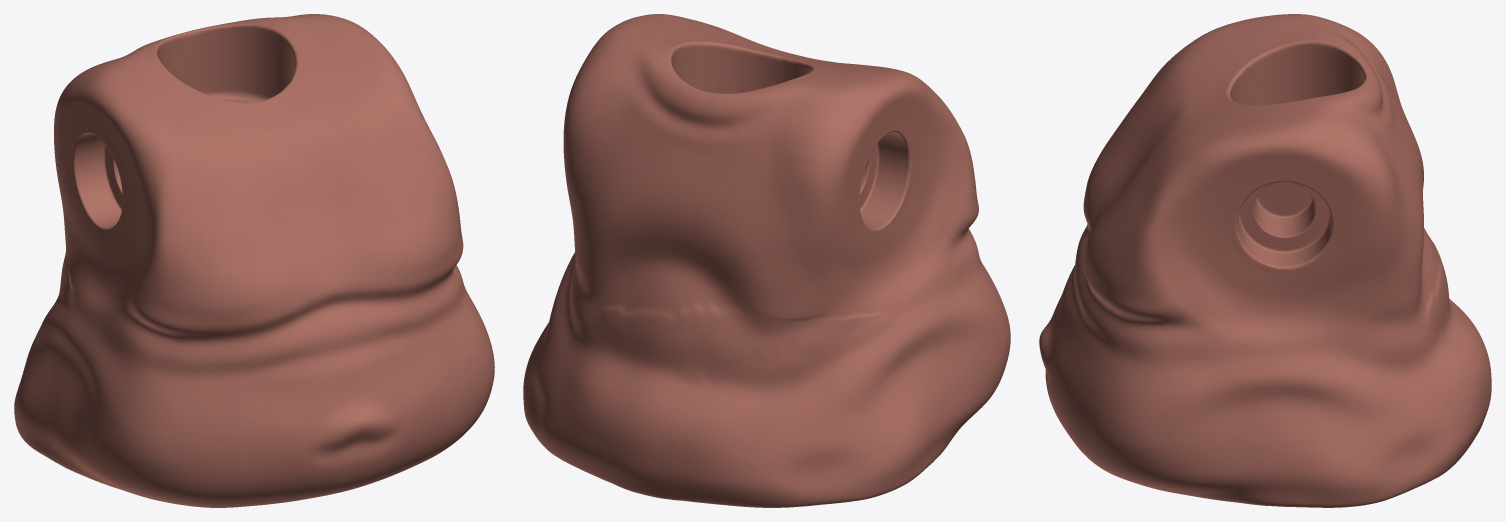
File: Buste_Cochon.glb
3 renders of one model, left to right at view 1: azimuth 30°, elevation 25°; view 2: azimuth 150°, elevation 25°; view 3: azimuth 270°, elevation 25°, orthographic. The views are drawn at different scales.
Visible parts, largest first — view 1: Buste_Cochon; view 2: Buste_Cochon; view 3: Buste_Cochon.
Part boxes in pixels (box(x1,y1,x2,y2)): Buste_Cochon: box(14, 14, 494, 507); Buste_Cochon: box(523, 14, 1010, 507); Buste_Cochon: box(1039, 14, 1491, 507).
Bounding box in the file's own units: 4.08 × 3.75 × 4.32.
